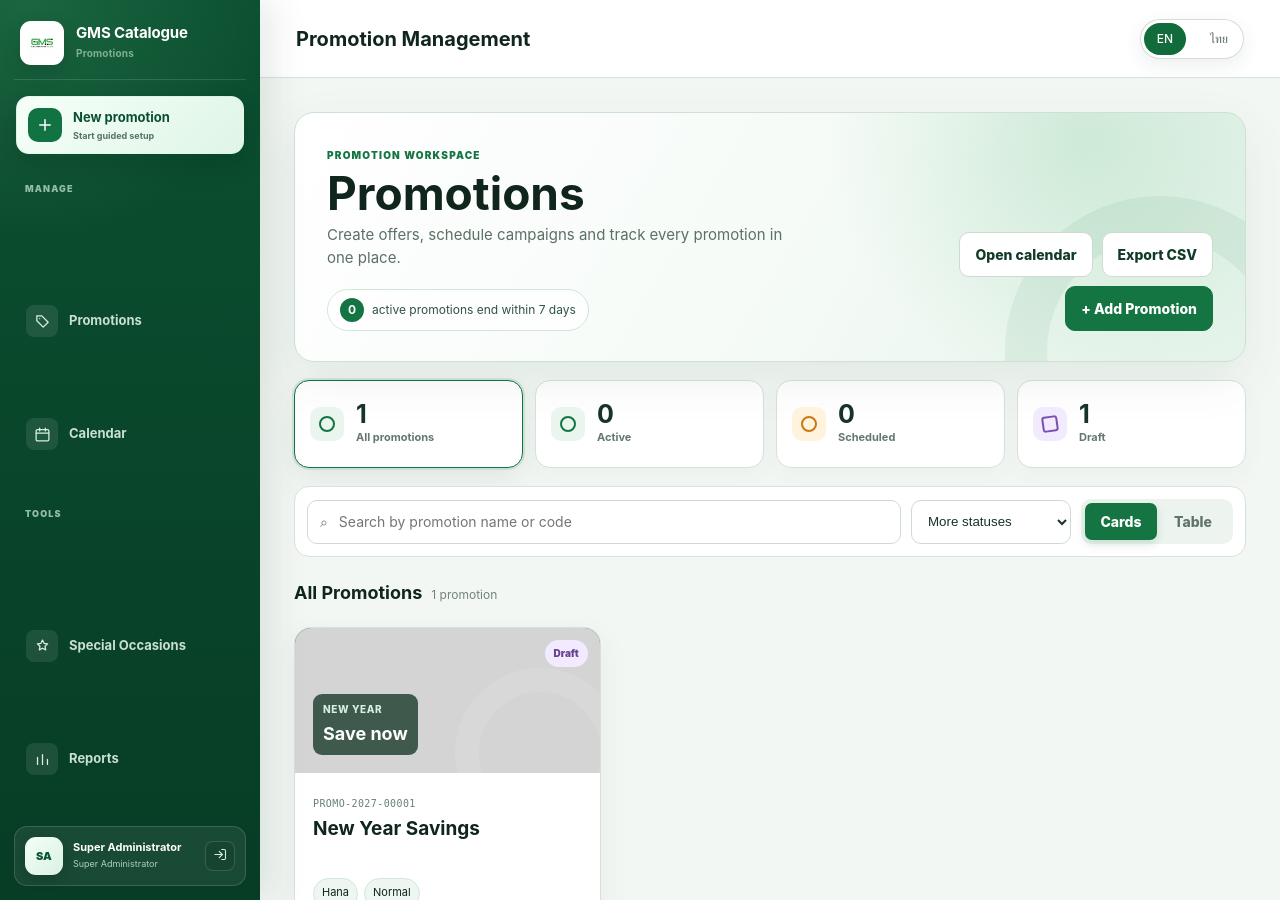
Test: Promotion Management › shows permission-aware navigation, summary and Add Promotion
Expected: the heading "Promotions" is shown, [327,165,585,221]
Expected: the heading "New Year Savings" is shown, [313,817,480,840]
Click the button "1 Draft" at (1132, 424), box [1017,380,1246,468]
(page scrolled)
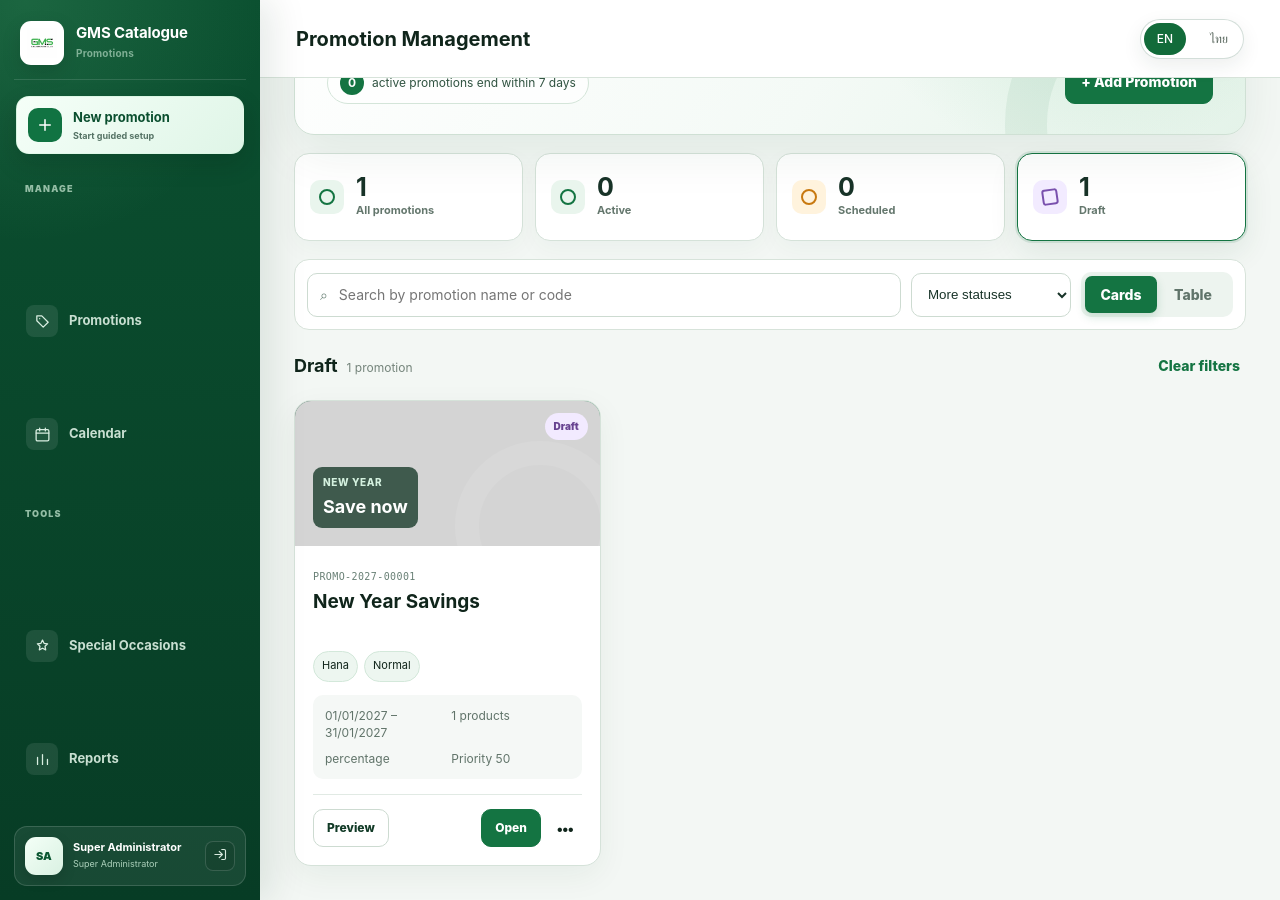
Result: the button "1 Draft" is pressed at [1017,153,1246,241]
Result: the button "1 All promotions" is not pressed at [294,153,523,241]
Click the heading named "Promotion actions" at (565, 828), box [557,820,574,837]
(page scrolled)
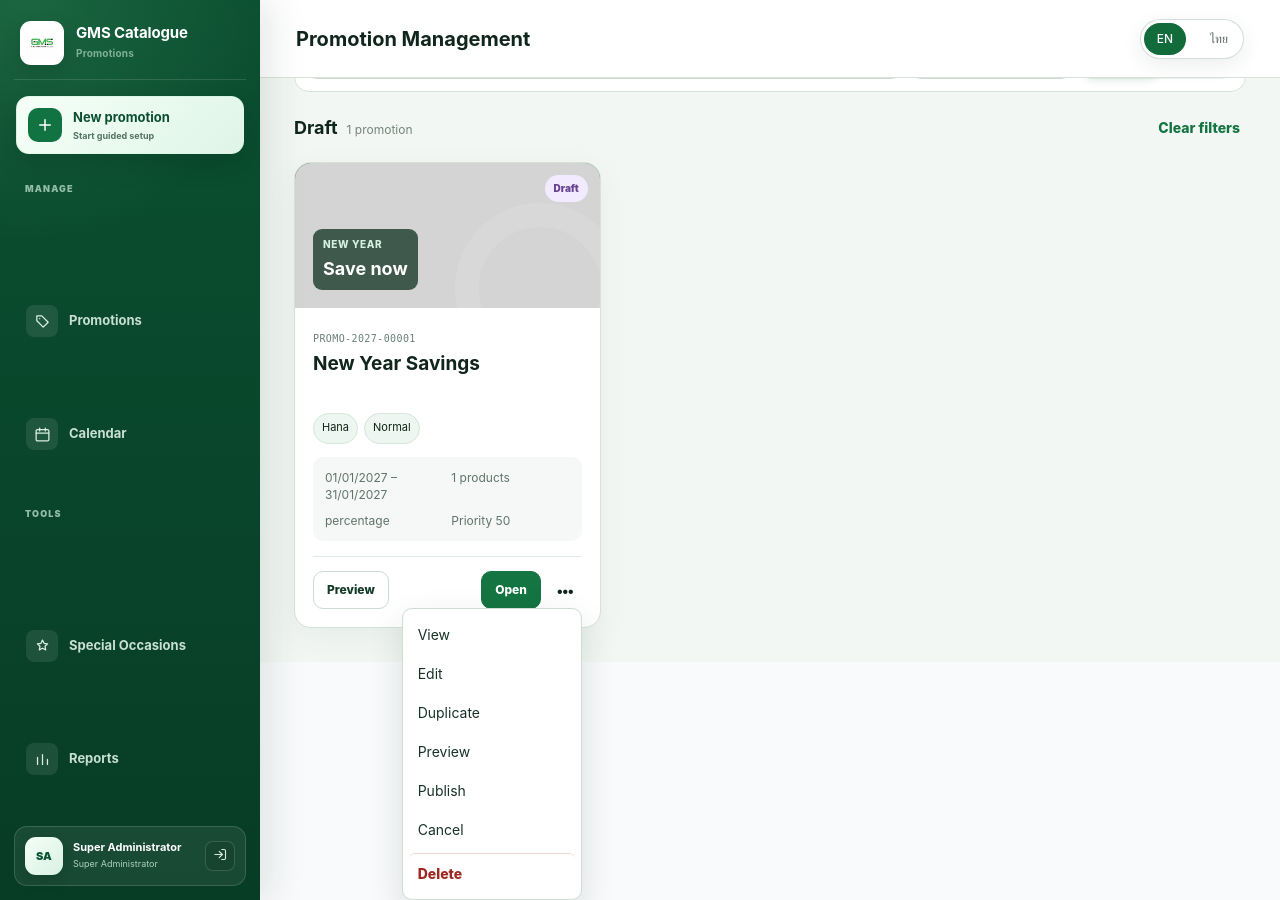
Result: the button "Publish" is shown at [409,771,575,810]
